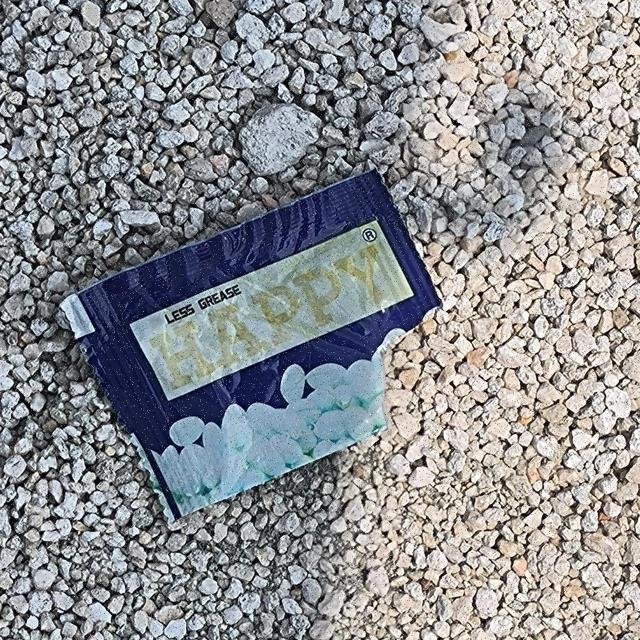plastic_waste: (60, 172, 443, 529)
